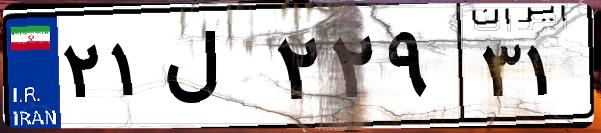1: (525, 38, 570, 115), (110, 28, 158, 98)
2: (270, 28, 330, 110), (330, 28, 385, 110), (57, 26, 110, 100)
3: (475, 38, 525, 113)
9: (385, 28, 445, 110)
ل: (158, 20, 270, 120)
